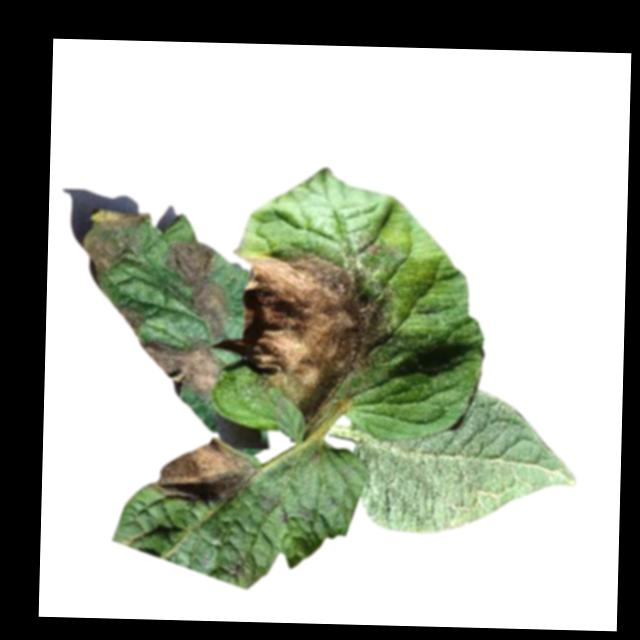Late_blight: (232, 247, 392, 441), (161, 238, 231, 343), (144, 438, 257, 503), (137, 339, 229, 401), (77, 208, 153, 279), (115, 304, 146, 336)
healthy: (348, 383, 581, 537)
